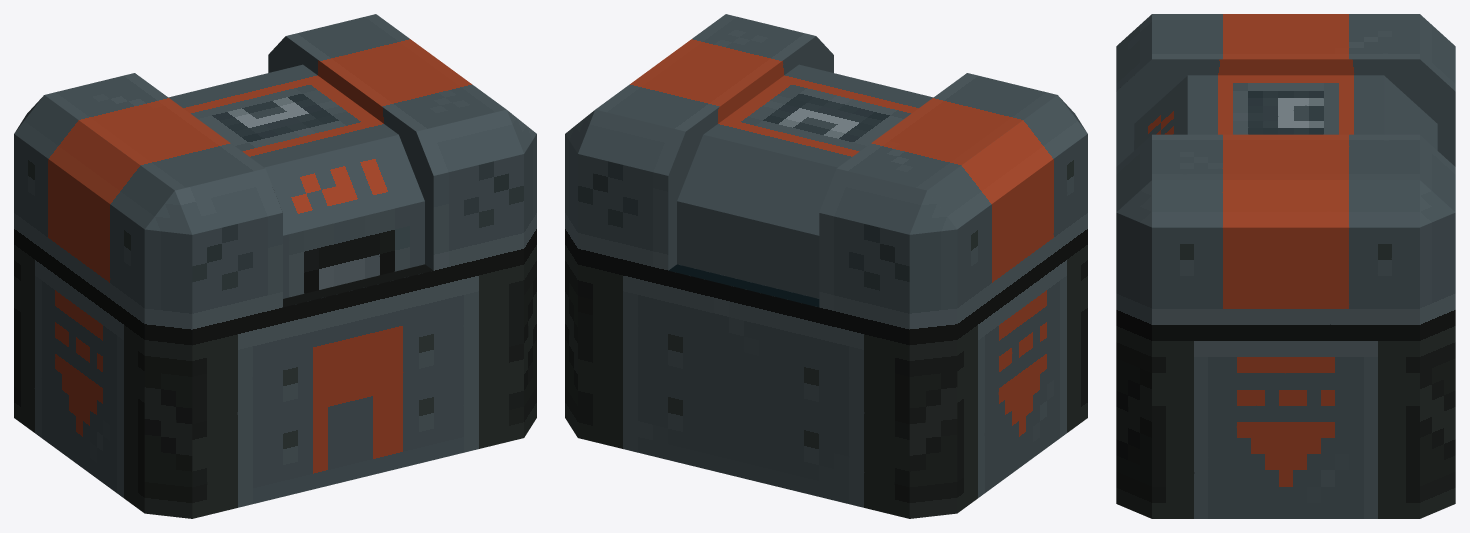
File: tritanium_crate_orange.obj
3 views of the same model, side by side, from view 1: azimuth 30°, elevation 25°; view 2: azimuth 150°, elevation 25°; view 3: azimuth 270°, elevation 25° (orthographic). The views are drawn at different scales.
Visible parts, largest first — view 1: base; view 2: base; view 3: base.
Boxes of the visible parts, x1,y1,x2,y2 form: base: [14, 14, 536, 518]; base: [565, 14, 1087, 518]; base: [1116, 14, 1455, 518].
Size of the model in its own units: 0.9958 by 0.766 by 0.7278.
